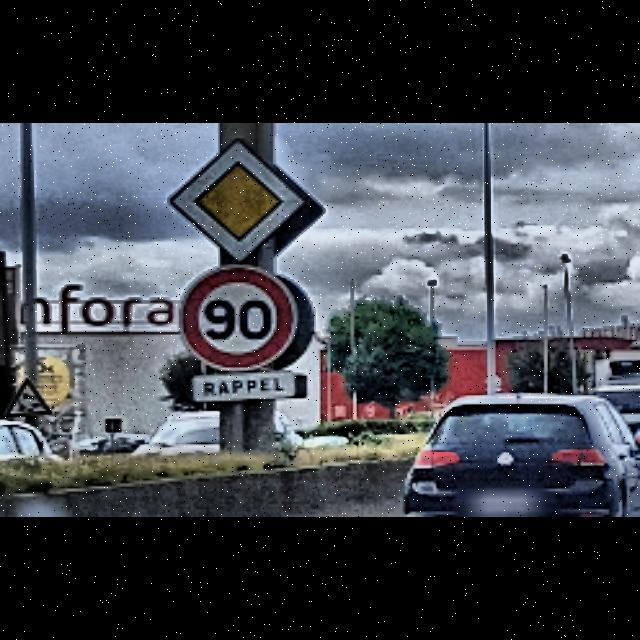speed_90: (178, 262, 300, 374)
